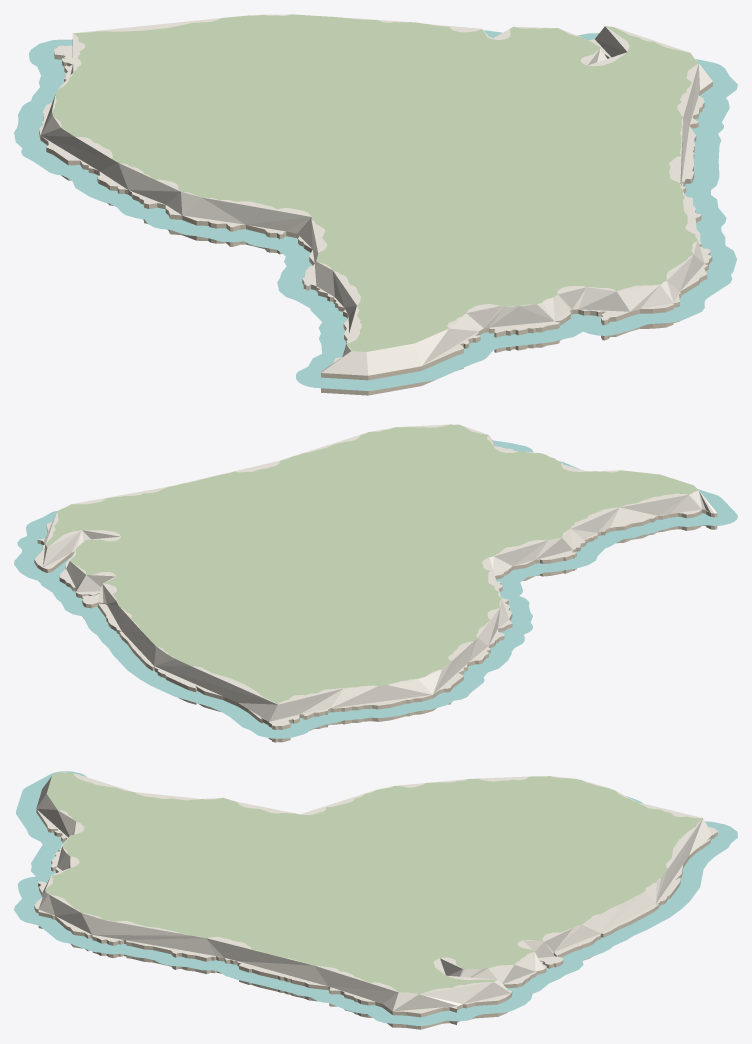
The model's file is guyane.glb.
3 renders of one model, top to bottom at view 1: azimuth 30°, elevation 25°; view 2: azimuth 150°, elevation 25°; view 3: azimuth 270°, elevation 25°, orthographic. The views are drawn at different scales.
Visible parts, largest first — view 1: terre, plage, lagon, falaise; view 2: terre, plage, lagon, falaise; view 3: terre, plage, lagon, falaise.
Boxes of the visible parts, x1=… form: terre: x1=52, y1=14, x2=698, y2=351; plage: x1=39, y1=14, x2=712, y2=375; lagon: x1=14, y1=30, x2=737, y2=390; falaise: x1=39, y1=51, x2=712, y2=395; terre: x1=45, y1=424, x2=698, y2=704; plage: x1=34, y1=424, x2=716, y2=726; lagon: x1=14, y1=440, x2=737, y2=738; falaise: x1=34, y1=493, x2=717, y2=742; terre: x1=45, y1=771, x2=702, y2=993; plage: x1=34, y1=771, x2=717, y2=1013; lagon: x1=14, y1=771, x2=737, y2=1025; falaise: x1=34, y1=809, x2=717, y2=1029.
Size of the model in its own units: 0.8819 by 0.05 by 1.06.
